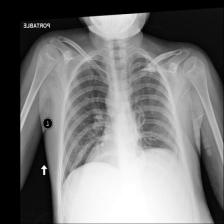normal: (54, 47, 188, 188)
